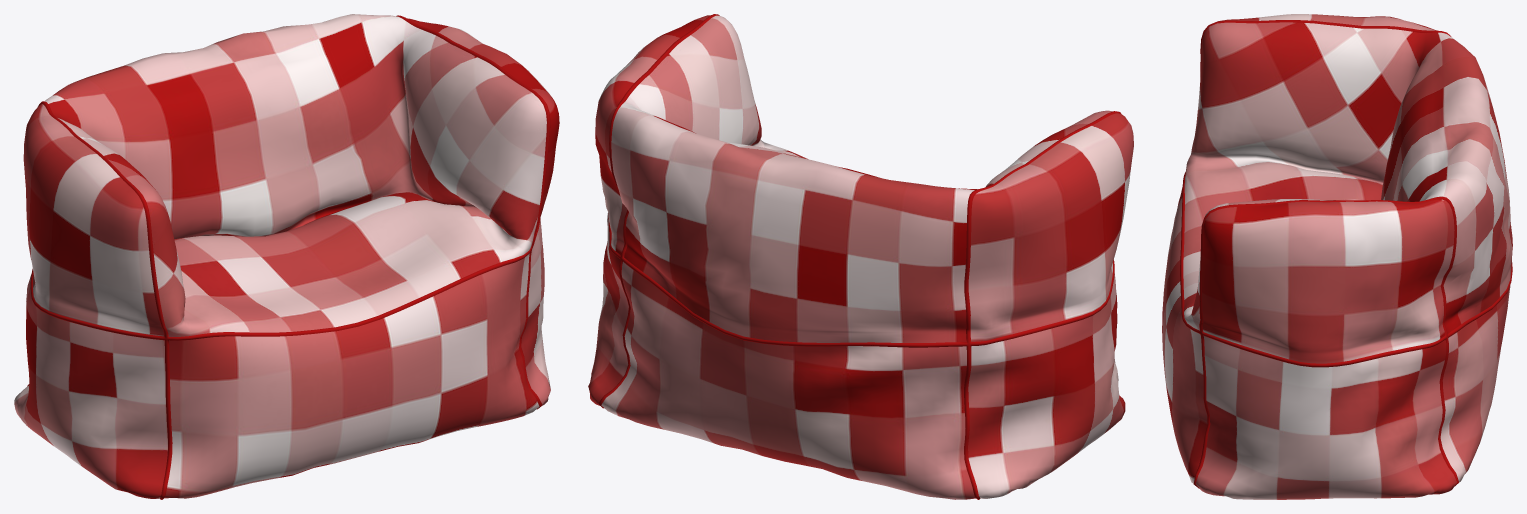
Rendered from BagChair.gltf.
3 renders of one model, left to right at view 1: azimuth 30°, elevation 25°; view 2: azimuth 150°, elevation 25°; view 3: azimuth 270°, elevation 25°, orthographic. The views are drawn at different scales.
Parts seen in each view (by area): view 1: bag_chair; view 2: bag_chair; view 3: bag_chair.
Boxes of the visible parts, box(x1,y1,x2,y2) form: bag_chair: box(14, 14, 559, 499); bag_chair: box(588, 14, 1133, 499); bag_chair: box(1162, 14, 1512, 499).
Size of the model in its own units: 0.9442 by 0.5799 by 0.6182.
1 material, 1 textured.
